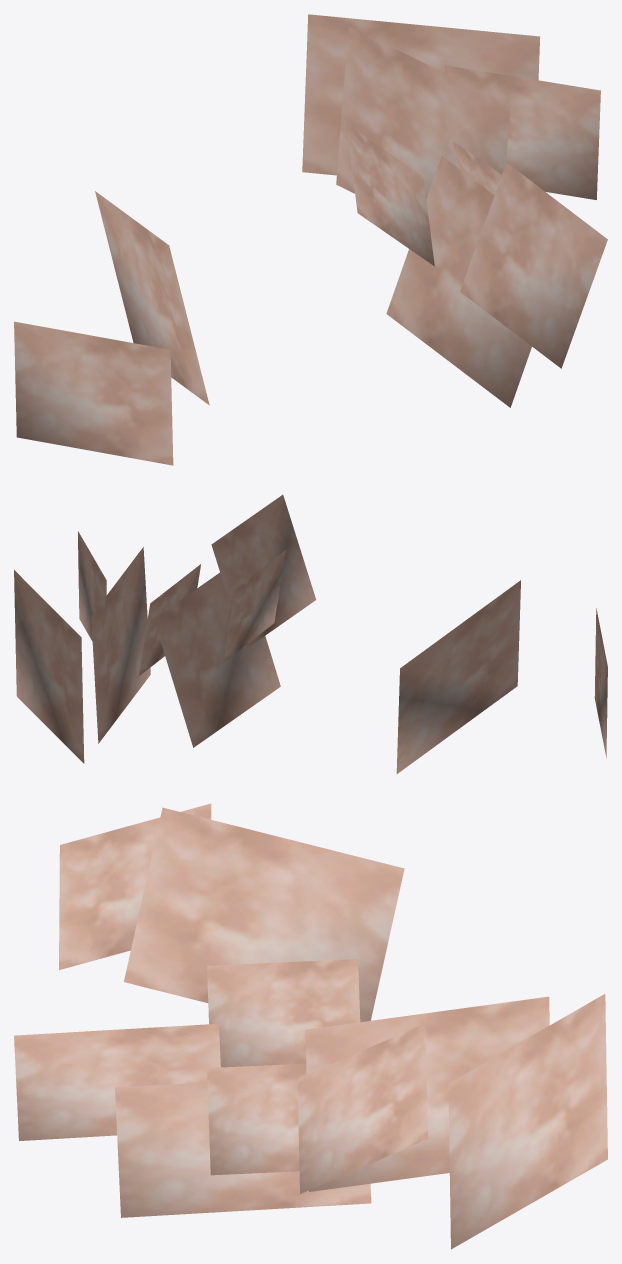
The model's file is stg220_MotCloud_09.obj.
3 views of the same model, one above another, from view 1: azimuth 30°, elevation 25°; view 2: azimuth 150°, elevation 25°; view 3: azimuth 270°, elevation 25° (orthographic). The views are drawn at different scales.
Visible parts, largest first — view 1: polygon1, polygon3, polygon6, polygon2, polygon8, polygon7, polygon0, polygon5, polygon4; view 2: polygon0, polygon2, polygon8, polygon6, polygon3, polygon5, polygon4, polygon7, polygon1; view 3: polygon0, polygon8, polygon2, polygon3, polygon7, polygon6, polygon5, polygon1, polygon4.
Part boxes in pixels (x1,y1,x2,y2): polygon1: (14,321,173,465); polygon3: (460,162,607,368); polygon6: (336,26,510,198); polygon2: (386,155,531,407); polygon8: (302,14,540,175); polygon7: (444,65,600,199); polygon0: (95,191,209,405); polygon5: (346,123,434,266); polygon4: (453,141,501,194); polygon0: (396,580,520,773); polygon2: (154,572,280,747); polygon8: (14,570,84,763); polygon6: (91,547,150,743); polygon3: (211,495,316,649); polygon5: (223,550,285,662); polygon4: (138,564,200,675); polygon7: (78,531,106,641); polygon1: (594,608,607,758); polygon0: (124,807,404,1022); polygon8: (448,994,607,1249); polygon2: (115,1082,371,1217); polygon3: (14,1023,220,1140); polygon7: (297,1023,428,1193); polygon6: (305,996,549,1191); polygon5: (207,959,360,1067); polygon1: (59,803,211,969); polygon4: (207,1063,361,1175).
Bounding box in the file's own units: 3879 × 1321 × 2932.
Materials: 1 (1 with a texture image).
